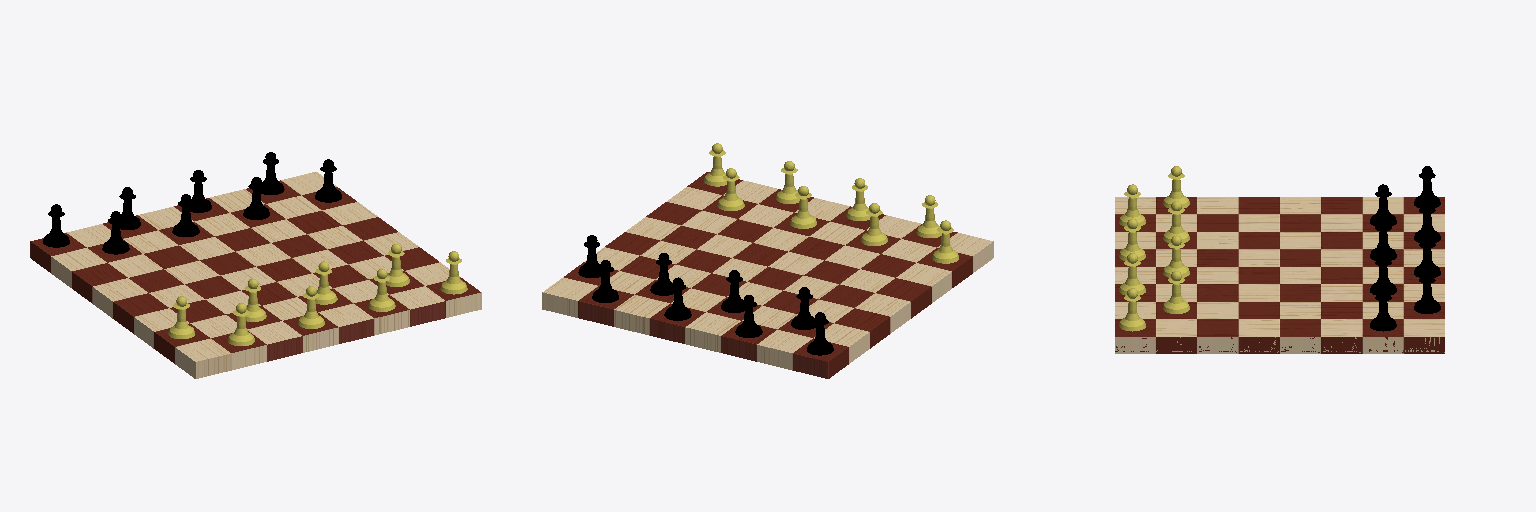
The picture shows the model from 3 angles: view 1: azimuth 30°, elevation 25°; view 2: azimuth 150°, elevation 25°; view 3: azimuth 270°, elevation 25°; orthographic projection.
Parts seen in each view (by area): view 1: Cube, Cylinder.008, Cylinder.015, Cylinder.001, Cylinder.009, Cylinder.007, Cylinder.013, Cylinder.006, Cylinder, Cylinder.014, Cylinder.005, Cylinder.004 (+5 smaller); view 2: Cube, Cylinder, Cylinder.008, Cylinder.003, Cylinder.011, Cylinder.012, Cylinder.004, Cylinder.010, Cylinder.002, Cylinder.001, Cylinder.009, Cylinder.013 (+5 smaller); view 3: Cube, Cylinder.007, Cylinder.015, Cylinder.004, Cylinder.012, Cylinder.011, Cylinder.003, Cylinder.006, Cylinder.014, Cylinder, Cylinder.008, Cylinder.002 (+5 smaller).
Part boxes in pixels (left/top/right/bottom): Cube: left=30, top=172, right=481, bottom=378; Cylinder.008: left=43, top=204, right=69, bottom=247; Cylinder.015: left=315, top=159, right=341, bottom=202; Cylinder.001: left=228, top=303, right=254, bottom=345; Cylinder.009: left=102, top=211, right=129, bottom=254; Cylinder.007: left=440, top=251, right=467, bottom=294; Cylinder.013: left=172, top=194, right=199, bottom=236; Cylinder.006: left=368, top=269, right=395, bottom=311; Cylinder: left=168, top=296, right=194, bottom=338; Cylinder.014: left=243, top=177, right=269, bottom=219; Cylinder.005: left=298, top=286, right=324, bottom=328; Cylinder.004: left=386, top=244, right=409, bottom=286; Cube: left=542, top=172, right=993, bottom=378; Cylinder: left=932, top=220, right=958, bottom=263; Cylinder.008: left=807, top=312, right=833, bottom=355; Cylinder.003: left=790, top=186, right=816, bottom=228; Cylinder.011: left=664, top=277, right=691, bottom=320; Cylinder.012: left=592, top=260, right=618, bottom=302; Cylinder.004: left=717, top=168, right=744, bottom=210; Cylinder.010: left=735, top=295, right=762, bottom=337; Cylinder.002: left=861, top=203, right=887, bottom=245; Cylinder.001: left=916, top=195, right=941, bottom=237; Cylinder.009: left=791, top=287, right=815, bottom=329; Cylinder.013: left=721, top=270, right=744, bottom=312; Cube: left=1115, top=197, right=1444, bottom=353; Cylinder.007: left=1119, top=288, right=1145, bottom=331; Cylinder.015: left=1370, top=288, right=1396, bottom=331; Cylinder.004: left=1163, top=271, right=1189, bottom=313; Cylinder.012: left=1414, top=271, right=1440, bottom=313; Cylinder.011: left=1414, top=235, right=1440, bottom=277; Cylinder.003: left=1163, top=235, right=1189, bottom=277; Cylinder.006: left=1119, top=253, right=1145, bottom=295; Cylinder.014: left=1370, top=253, right=1396, bottom=295; Cylinder: left=1163, top=166, right=1189, bottom=208; Cylinder.008: left=1414, top=166, right=1440, bottom=208; Cylinder.002: left=1163, top=201, right=1189, bottom=242.
Size of the model in its own units: 0.6 by 0.1123 by 0.6.
Materials: 3 (1 with a texture image).